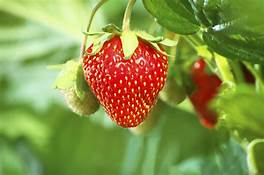Fresa: (79, 23, 175, 137)
